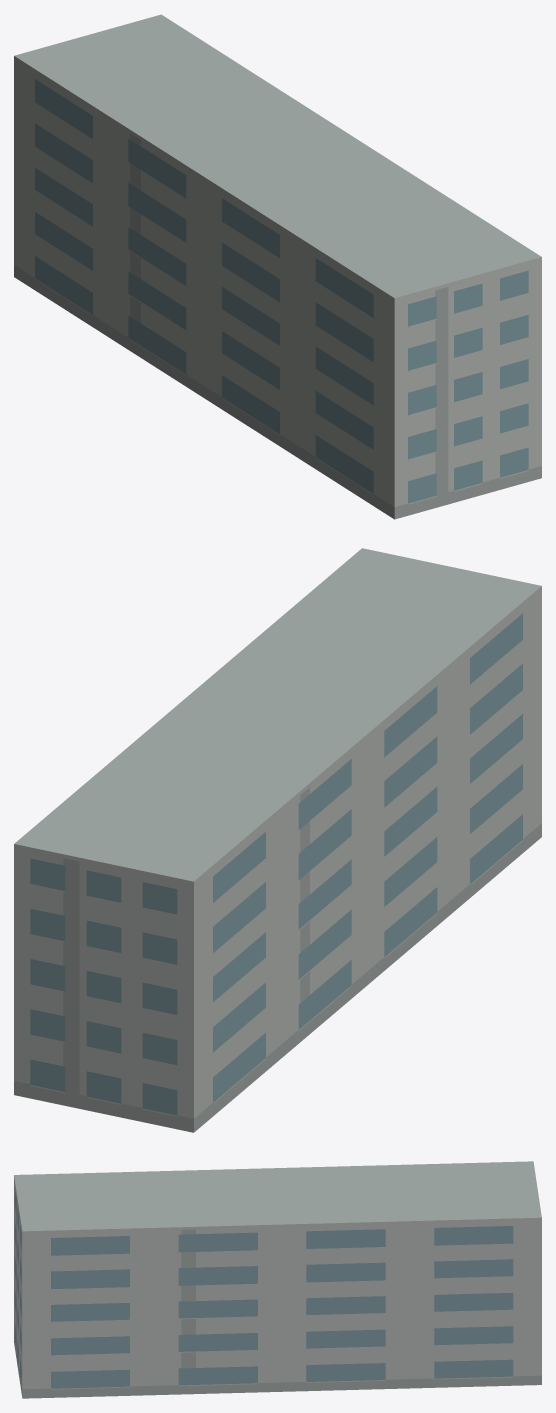
Rendered from residential-0cabc37a-d948-44fa-8db1-e005df01aecc.glb.
3 renders of one model, top to bottom at view 1: azimuth 30°, elevation 25°; view 2: azimuth 150°, elevation 25°; view 3: azimuth 270°, elevation 25°, orthographic. The views are drawn at different scales.
Parts seen in each view (by area): view 1: residential-0cabc37a-d948-44fa-8db1-e005df01aecc.tmp; view 2: residential-0cabc37a-d948-44fa-8db1-e005df01aecc.tmp; view 3: residential-0cabc37a-d948-44fa-8db1-e005df01aecc.tmp.
Boxes of the visible parts, bbox=[...] form: residential-0cabc37a-d948-44fa-8db1-e005df01aecc.tmp: bbox=[14, 14, 541, 519]; residential-0cabc37a-d948-44fa-8db1-e005df01aecc.tmp: bbox=[14, 548, 541, 1132]; residential-0cabc37a-d948-44fa-8db1-e005df01aecc.tmp: bbox=[14, 1161, 541, 1398].
Size of the model in its own units: 13.7 by 15.25 by 43.63.
